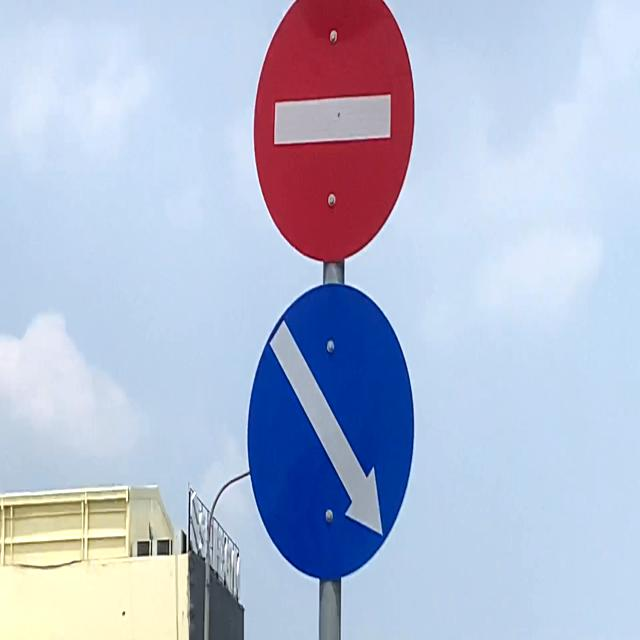P.102: (250, 0, 420, 268)
R.302a: (242, 274, 418, 589)
